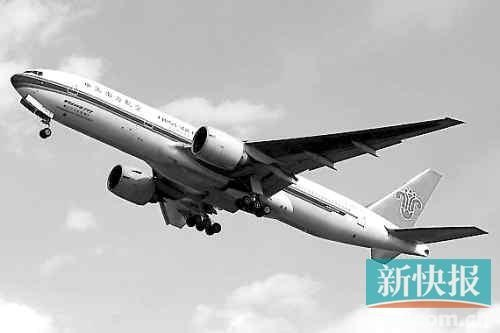airplane: (9, 65, 489, 264)
